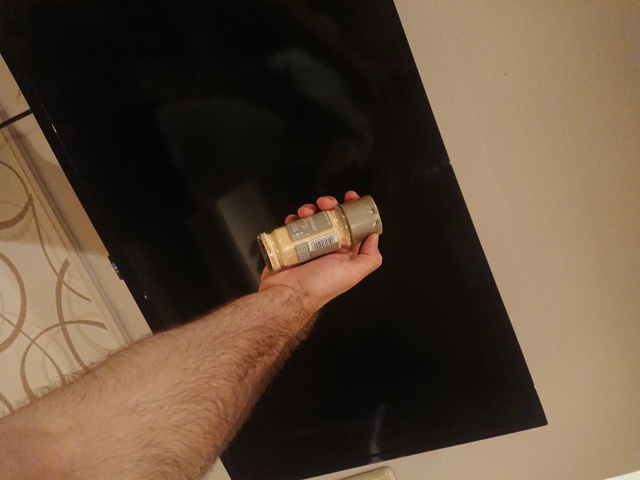Kotanyi Garlic Granules 70g: (254, 193, 384, 276)
